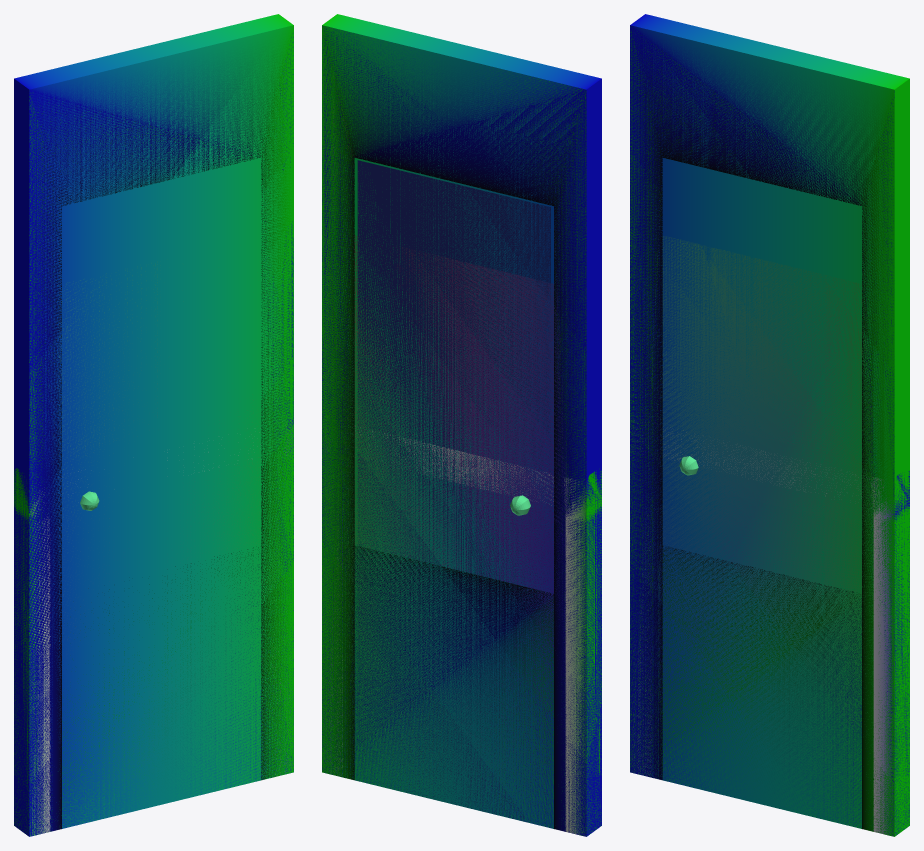
Rendered from 1m_all.fbx.
The picture shows the model from 3 angles, left to right: view 1: azimuth 30°, elevation 25°; view 2: azimuth 150°, elevation 25°; view 3: azimuth 330°, elevation 25°; orthographic projection.
Visible parts, largest first — view 1: Simple Wall 1m (w00-00), Simple Door 1m (w00-04), Simple Window 1m (w00-01), Simple WindowSmall (w00-03), Simple Fence 1m (w00-05), Simple Border 1m (w00-06); view 2: Simple Wall 1m (w00-00), Simple Door 1m (w00-04), Simple Door-1m, Simple Window 1m (w00-01), Simple WindowSmall (w00-03), Simple Fence 1m (w00-05), Simple Border 1m (w00-06); view 3: Simple Wall 1m (w00-00), Simple WindowSmall (w00-03), Simple Door 1m (w00-04), Simple Window 1m (w00-01), Simple Fence 1m (w00-05), Simple Border 1m (w00-06).
Boxes of the visible parts, x1=… form: Simple Wall 1m (w00-00): x1=29, y1=25, x2=293, y2=835; Simple Door 1m (w00-04): x1=14, y1=14, x2=293, y2=836; Simple Window 1m (w00-01): x1=29, y1=37, x2=293, y2=835; Simple WindowSmall (w00-03): x1=30, y1=261, x2=293, y2=835; Simple Fence 1m (w00-05): x1=14, y1=418, x2=293, y2=836; Simple Border 1m (w00-06): x1=14, y1=736, x2=293, y2=835; Simple Wall 1m (w00-00): x1=322, y1=26, x2=586, y2=836; Simple Door 1m (w00-04): x1=322, y1=14, x2=601, y2=836; Simple Door-1m: x1=357, y1=160, x2=550, y2=826; Simple Window 1m (w00-01): x1=322, y1=26, x2=586, y2=836; Simple WindowSmall (w00-03): x1=322, y1=34, x2=585, y2=833; Simple Fence 1m (w00-05): x1=322, y1=426, x2=601, y2=835; Simple Border 1m (w00-06): x1=326, y1=742, x2=601, y2=836; Simple Wall 1m (w00-00): x1=630, y1=25, x2=894, y2=836; Simple WindowSmall (w00-03): x1=630, y1=194, x2=894, y2=834; Simple Door 1m (w00-04): x1=630, y1=14, x2=909, y2=836; Simple Window 1m (w00-01): x1=630, y1=27, x2=894, y2=834; Simple Fence 1m (w00-05): x1=630, y1=418, x2=909, y2=835; Simple Border 1m (w00-06): x1=635, y1=761, x2=909, y2=833.
Size of the model in its own units: 100 by 270 by 21.03.
